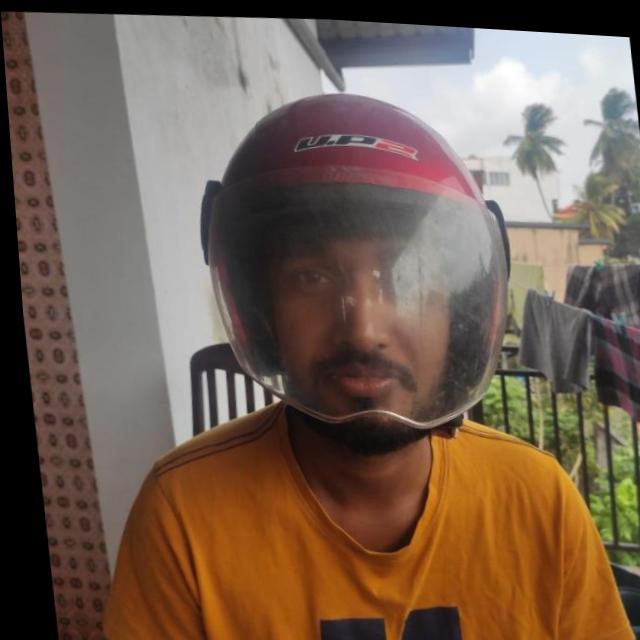helmet: (183, 74, 528, 464)
